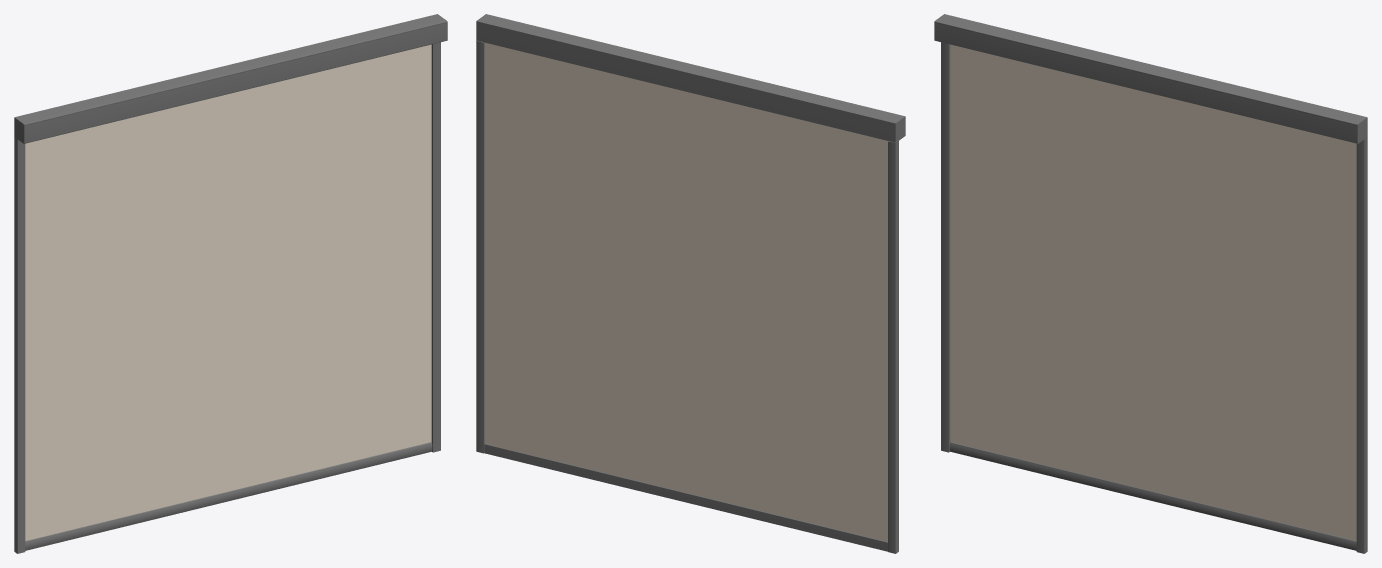
File: Zip 3.glb
3 renders of one model, left to right at view 1: azimuth 30°, elevation 25°; view 2: azimuth 150°, elevation 25°; view 3: azimuth 330°, elevation 25°, orthographic.
Visible parts, largest first — view 1: 3DGeom-10, 3DGeom-9, 3DGeom-7, 3DGeom-5, 3DGeom-2; view 2: 3DGeom-10, 3DGeom-9, 3DGeom-7, 3DGeom-5, 3DGeom-2; view 3: 3DGeom-10, 3DGeom-9, 3DGeom-2, 3DGeom-5, 3DGeom-7.
Part boxes in pixels (bbox=[...]): 3DGeom-10: bbox=[25, 44, 431, 540]; 3DGeom-9: bbox=[15, 14, 447, 143]; 3DGeom-7: bbox=[14, 137, 25, 553]; 3DGeom-5: bbox=[25, 442, 432, 550]; 3DGeom-2: bbox=[431, 42, 440, 452]; 3DGeom-10: bbox=[484, 42, 887, 541]; 3DGeom-9: bbox=[476, 14, 904, 142]; 3DGeom-7: bbox=[888, 141, 898, 553]; 3DGeom-5: bbox=[484, 443, 887, 551]; 3DGeom-2: bbox=[476, 40, 484, 453]; 3DGeom-10: bbox=[950, 44, 1356, 540]; 3DGeom-9: bbox=[934, 14, 1366, 143]; 3DGeom-2: bbox=[1356, 137, 1367, 553]; 3DGeom-5: bbox=[949, 442, 1356, 550]; 3DGeom-7: bbox=[941, 42, 950, 452].
Bounding box in the file's own units: 2.71 × 2.65 × 0.1113.
